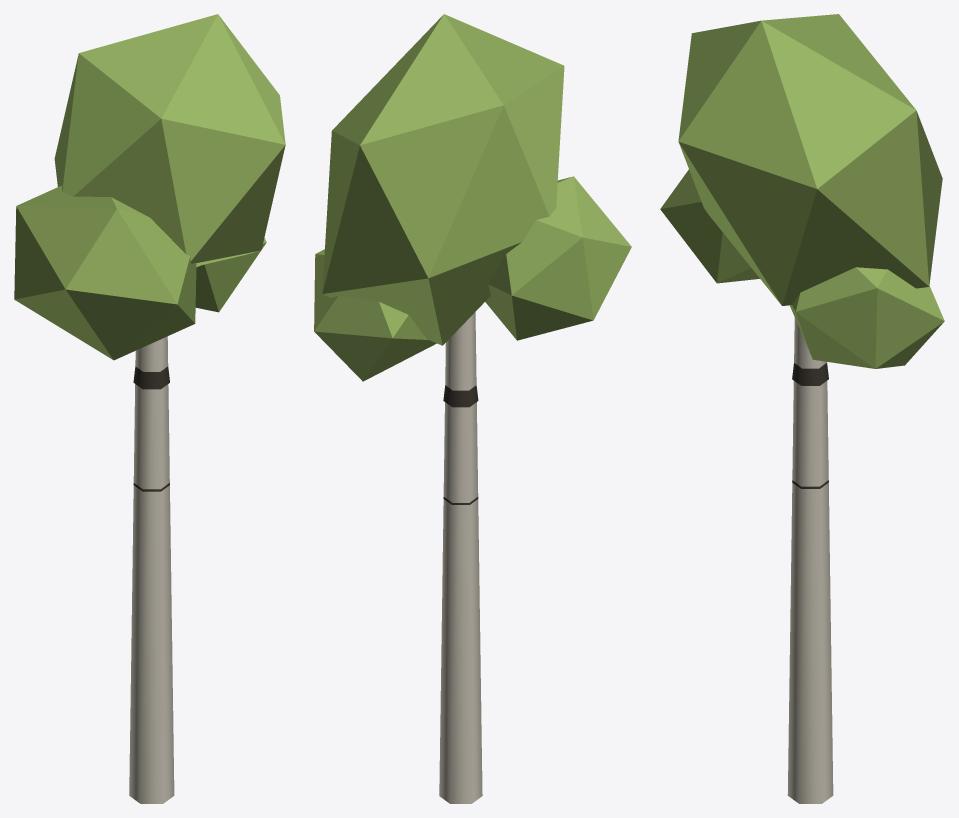
Rendered from tree_birch_2.glb.
The picture shows the model from 3 angles, left to right: view 1: azimuth 30°, elevation 25°; view 2: azimuth 150°, elevation 25°; view 3: azimuth 270°, elevation 25°; orthographic projection. The views are drawn at different scales.
Parts seen in each view (by area): view 1: tree_birch_2; view 2: tree_birch_2; view 3: tree_birch_2.
Boxes of the visible parts, x1,y1,x2,y2 form: tree_birch_2: (14, 14, 285, 803); tree_birch_2: (314, 14, 631, 803); tree_birch_2: (660, 14, 944, 803).
Bounding box in the file's own units: 2.21 × 6.17 × 2.
